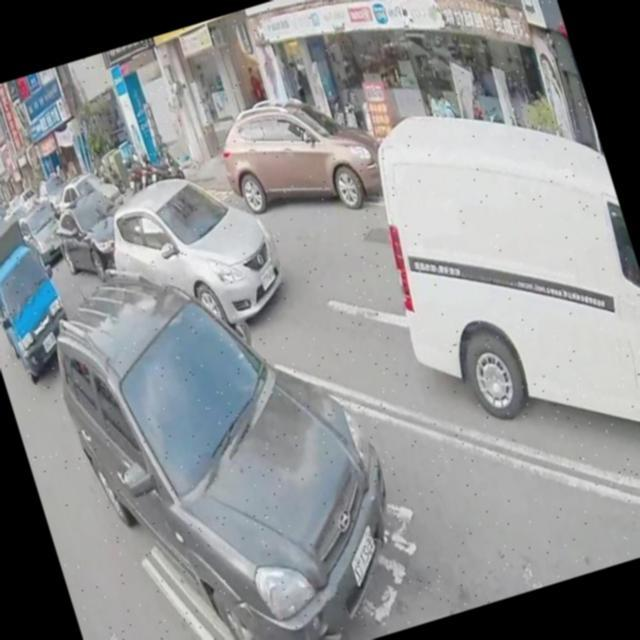person: (246, 63, 268, 102), (438, 88, 460, 118), (428, 90, 446, 116)
